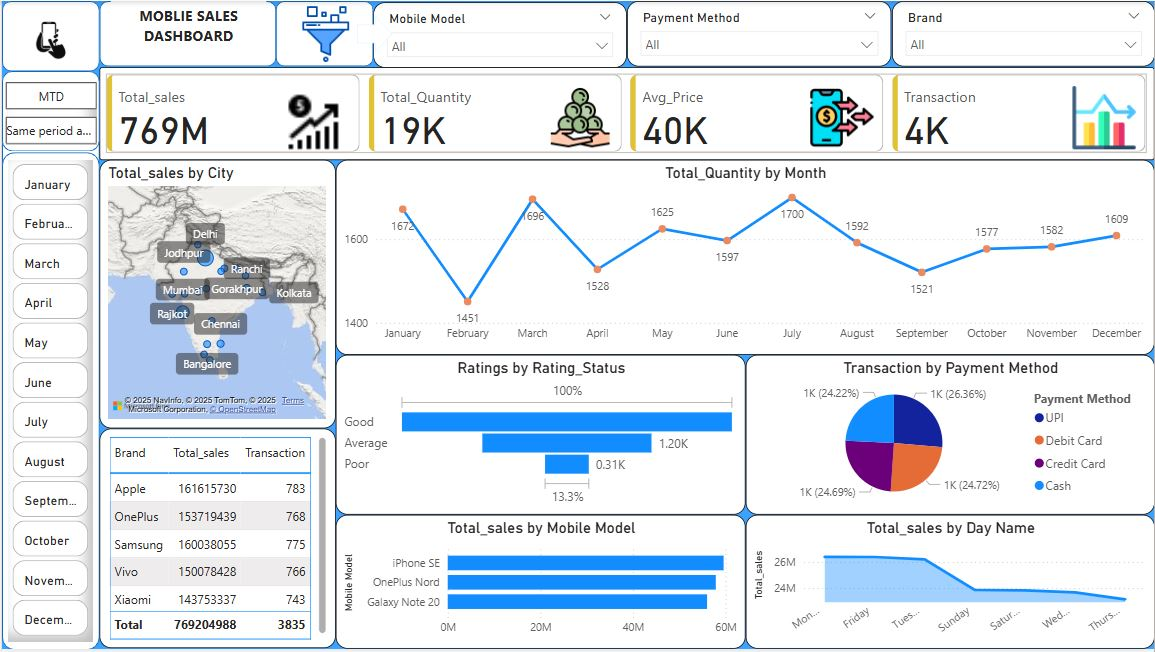

The page's visual inventory and layout, read from the dashboard file:
{"tool":"powerbi","page":{"name":"Dashboard","canvas":[1280,720],"ordinal":0},"visuals":[{"type":"shape","box":[0,0,108.4,78.2],"z":0},{"type":"image","box":[13.7,0,81,86.4],"z":1000},{"type":"shape","box":[0,112.5,108.4,89.2],"z":2000},{"type":"shape","box":[0,167.4,108.4,553],"z":3000},{"type":"advancedSlicerVisual","fields":{"Values":["Custom_calender.Date.Variation.Date Hierarchy.Month"]},"box":[6.9,177,94.7,535.2],"z":4000},{"type":"cardVisual","fields":{"Data":["Sales.Total_sales","Sales.Total_Quantity","Sales.Avg_Price","Sales.Transaction"]},"box":[108.4,74.1,1171.9,102.9],"z":5000},{"type":"slicer","fields":{"Values":["Sales.Mobile Model"]},"box":[413,1.4,281.3,72.7],"z":6000},{"type":"slicer","fields":{"Values":["Sales.Payment Method"]},"box":[694.3,0,293.7,72.7],"z":7000},{"type":"slicer","fields":{"Values":["Sales.Brand"]},"box":[988,0,292.3,72.7],"z":8000},{"type":"shape","box":[304.6,0,108.4,72.7],"z":9000},{"type":"image","box":[279.9,0,159.2,74.1],"z":10000},{"type":"shape","box":[393.8,15.1,39.8,42.5],"z":11000},{"type":"shape","box":[0,78.2,108.4,89.2],"z":12000},{"type":"shape","box":[108.4,0,196.2,72.7],"z":13000},{"type":"textbox","box":[120.8,0,172.9,71.4],"z":14000},{"type":"map","fields":{"Category":["Sales.City"],"Size":["Sales.Total_sales"]},"box":[108.3,176.4,262.4,298.5],"z":15000},{"type":"lineChart","fields":{"Y":["Sales.Total_Quantity"],"Category":["Custom_calender.Date.Variation.Date Hierarchy.Month"]},"box":[370.8,176.4,909.5,216.6],"z":16000},{"type":"funnel","title":" Ratings by Rating_Status","fields":{"Y":["CountNonNull(Sales.Customer Ratings)"],"Category":["Sales.Rating_Status"]},"box":[370.8,393,455.5,177.7],"z":17000},{"type":"pieChart","fields":{"Y":["Sales.Transaction"],"Category":["Sales.Payment Method"]},"box":[826.2,393,454.1,177.7],"z":18000},{"type":"clusteredBarChart","fields":{"Y":["Sales.Total_sales"],"Category":["Sales.Mobile Model"]},"box":[370.8,570.7,455.5,148.6],"z":19000},{"type":"areaChart","fields":{"Y":["Sales.Total_sales"],"Category":["Custom_calender.Day Name"]},"box":[826.2,570.7,454.1,148.6],"z":20000},{"type":"tableEx","fields":{"Values":["Sales.Brand","Sales.Total_sales","Sales.Transaction"]},"box":[108.3,474.9,262.4,244.4],"z":21000},{"type":"pageNavigator","box":[1.4,88.9,104.1,70.8],"z":22000}]}

Visuals, with their boxes in screenshot pixels (x1, y1, x2, y2), scaled from the page's 1280x720 canvas onto the 1155x652 screenshot:
shape: detection(0, 0, 98, 71)
image: detection(12, 0, 85, 78)
shape: detection(0, 102, 98, 183)
shape: detection(0, 152, 98, 651)
advancedSlicerVisual - Custom_calender.Date.Variation.Date Hierarchy.Month: detection(6, 160, 92, 645)
cardVisual - Sales.Total_sales x Sales.Total_Quantity: detection(98, 67, 1154, 160)
slicer - Sales.Mobile Model: detection(373, 1, 626, 67)
slicer - Sales.Payment Method: detection(626, 0, 892, 66)
slicer - Sales.Brand: detection(892, 0, 1154, 66)
shape: detection(275, 0, 373, 66)
image: detection(253, 0, 396, 67)
shape: detection(355, 14, 391, 52)
shape: detection(0, 71, 98, 152)
shape: detection(98, 0, 275, 66)
textbox: detection(109, 0, 265, 65)
map - Sales.City x Sales.Total_sales: detection(98, 160, 334, 430)
lineChart - Sales.Total_Quantity x Custom_calender.Date.Variation.Date Hierarchy.Month: detection(335, 160, 1154, 356)
" Ratings by Rating_Status" funnel: detection(335, 356, 746, 517)
pieChart - Sales.Transaction x Sales.Payment Method: detection(746, 356, 1154, 517)
clusteredBarChart - Sales.Total_sales x Sales.Mobile Model: detection(335, 517, 746, 651)
areaChart - Sales.Total_sales x Custom_calender.Day Name: detection(746, 517, 1154, 651)
tableEx - Sales.Brand x Sales.Total_sales: detection(98, 430, 334, 651)
pageNavigator: detection(1, 81, 95, 145)
